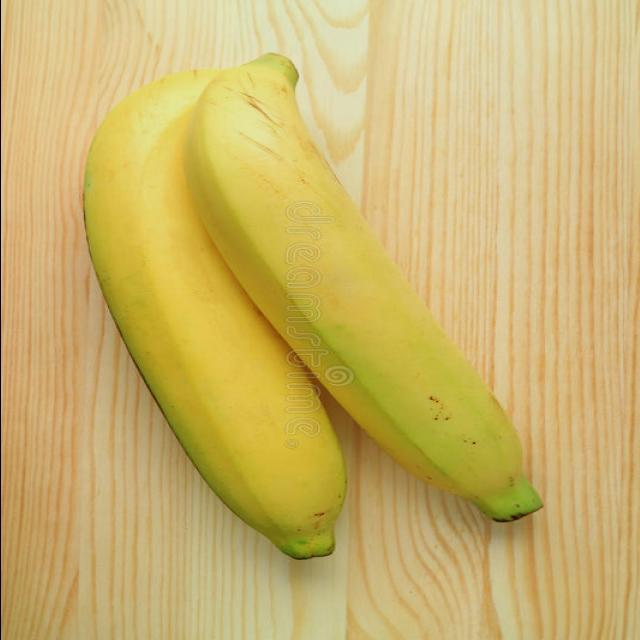banana: (172, 51, 549, 529), (80, 58, 354, 562)
